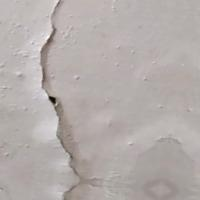crack: (21, 1, 105, 199)
